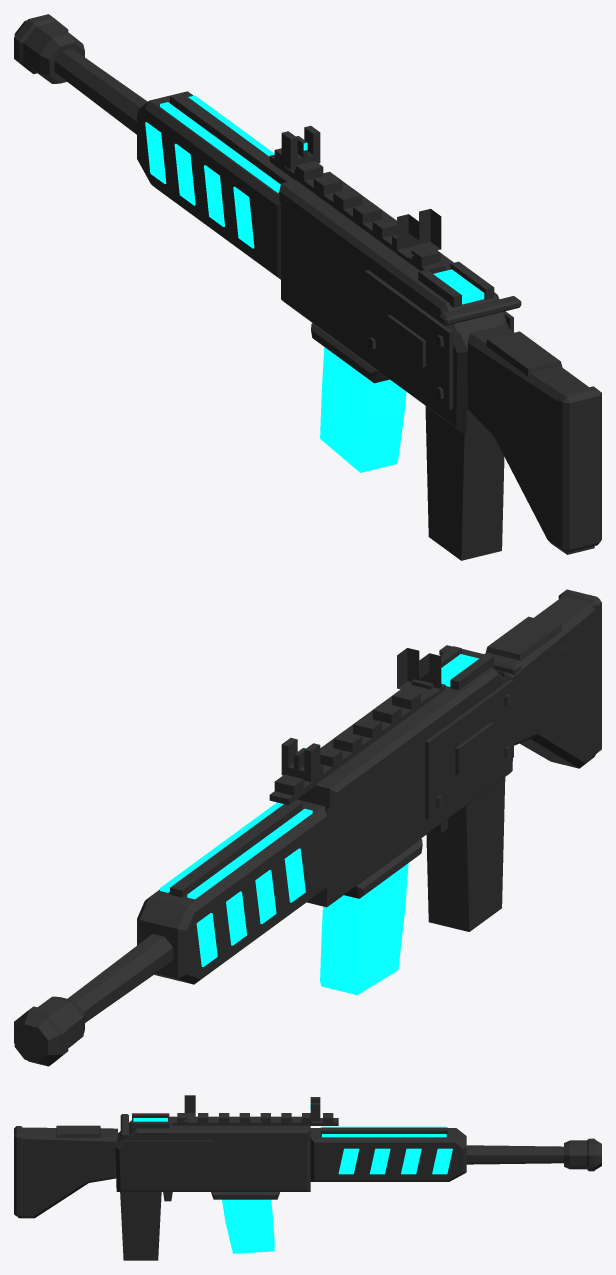
File: rifle.glb
3 views of the same model, one above another, from view 1: azimuth 30°, elevation 25°; view 2: azimuth 150°, elevation 25°; view 3: azimuth 270°, elevation 25° (orthographic). The views are drawn at different scales.
Visible parts, largest first — view 1: frame, grip, trim, heat_cell, heat_vents; view 2: frame, trim, grip, heat_cell, heat_vents; view 3: frame, trim, grip, heat_vents, heat_cell.
Part boxes in pixels (x1,y1,x2,y2): frame: (14, 20, 508, 435); grip: (425, 325, 601, 560); trim: (14, 14, 562, 409); heat_cell: (320, 347, 406, 472); heat_vents: (145, 95, 484, 304); frame: (14, 681, 512, 1064); trim: (14, 616, 567, 1066); grip: (426, 589, 601, 931); heat_cell: (320, 863, 408, 995); heat_vents: (160, 654, 479, 967); frame: (115, 1128, 601, 1199); trim: (54, 1095, 595, 1201); grip: (14, 1126, 161, 1260); heat_vents: (133, 1104, 452, 1174); heat_cell: (222, 1199, 274, 1253).
Size of the model in its own units: 0.068 by 0.248 by 0.848.
